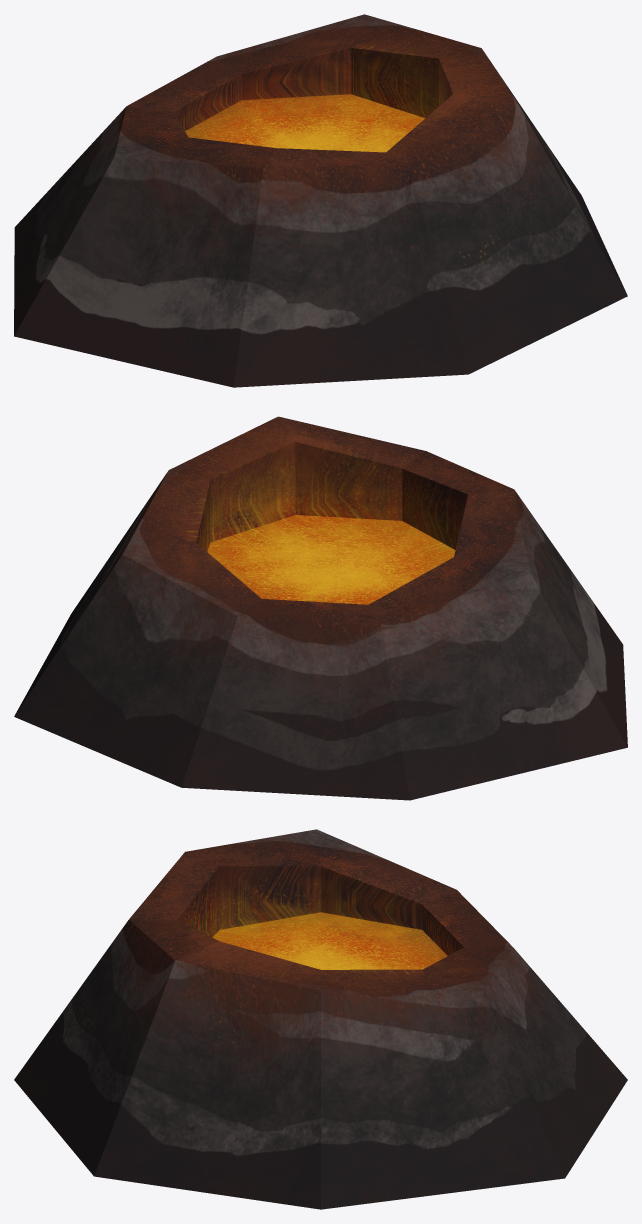
File: lava_crater_001.obj
3 renders of one model, top to bottom at view 1: azimuth 30°, elevation 25°; view 2: azimuth 150°, elevation 25°; view 3: azimuth 270°, elevation 25°, orthographic. The views are drawn at different scales.
Visible parts, largest first — view 1: lava_crater_001_GEO; view 2: lava_crater_001_GEO; view 3: lava_crater_001_GEO.
Part boxes in pixels (bbox=[...]): lava_crater_001_GEO: bbox=[14, 14, 627, 387]; lava_crater_001_GEO: bbox=[14, 416, 627, 800]; lava_crater_001_GEO: bbox=[14, 829, 627, 1209].
Bounding box in the file's own units: 3.02 × 0.9271 × 2.84.
1 material, 1 textured.
